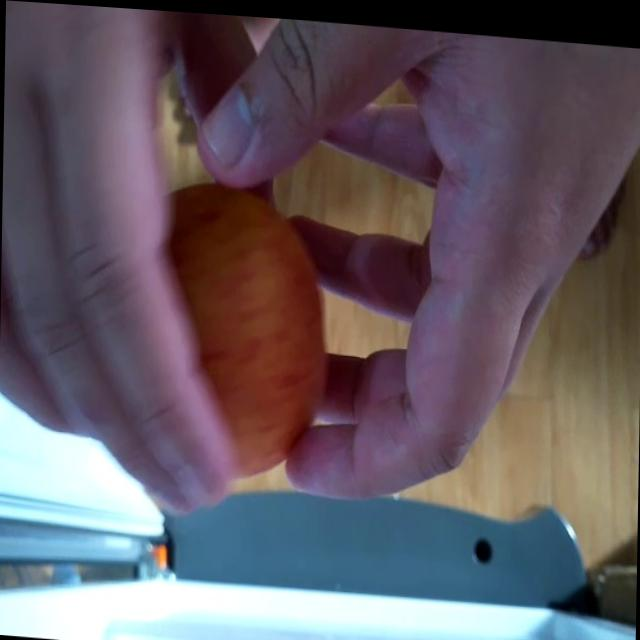apple: (157, 179, 330, 481)
